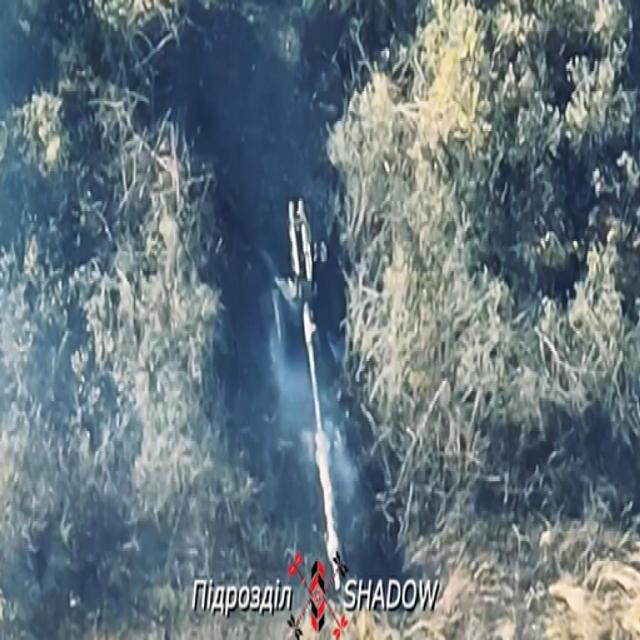ART: (270, 186, 345, 564)
